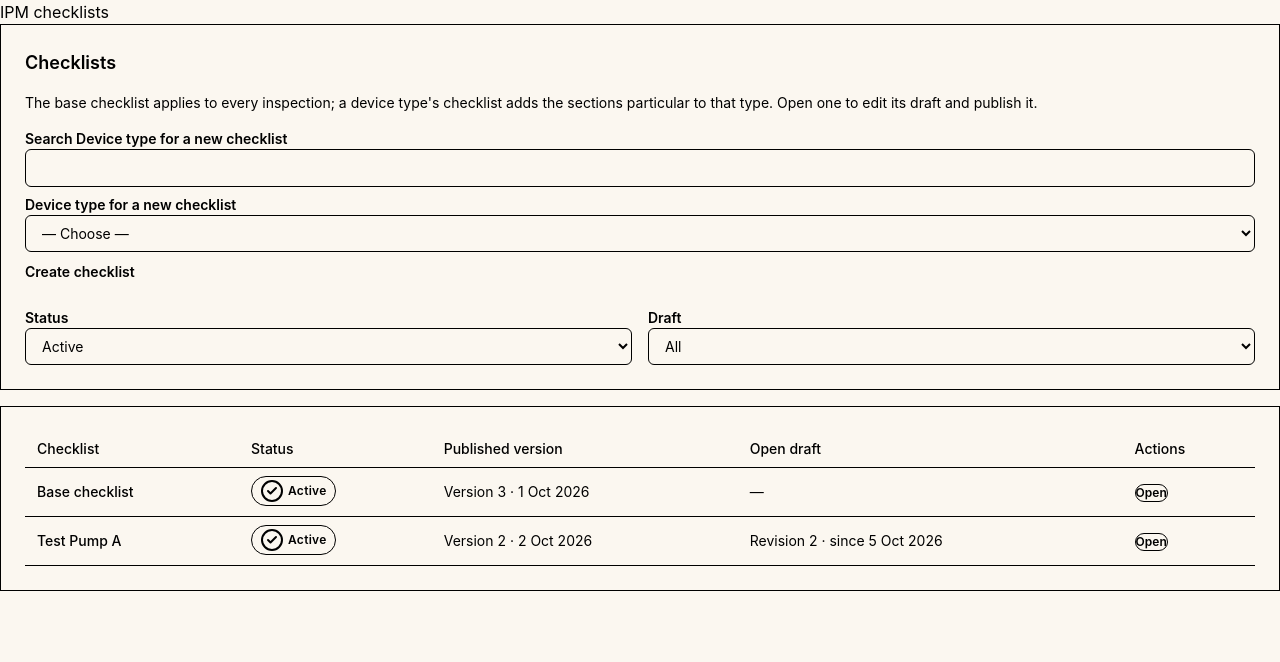
Test: P22-01 — the operator's checklists › a stale save is a 409 shown as written, with a reload that re-reads the draft
Click the button with aria-label "Open Test Pump A" at (1151, 542), box [1135, 533, 1168, 551]
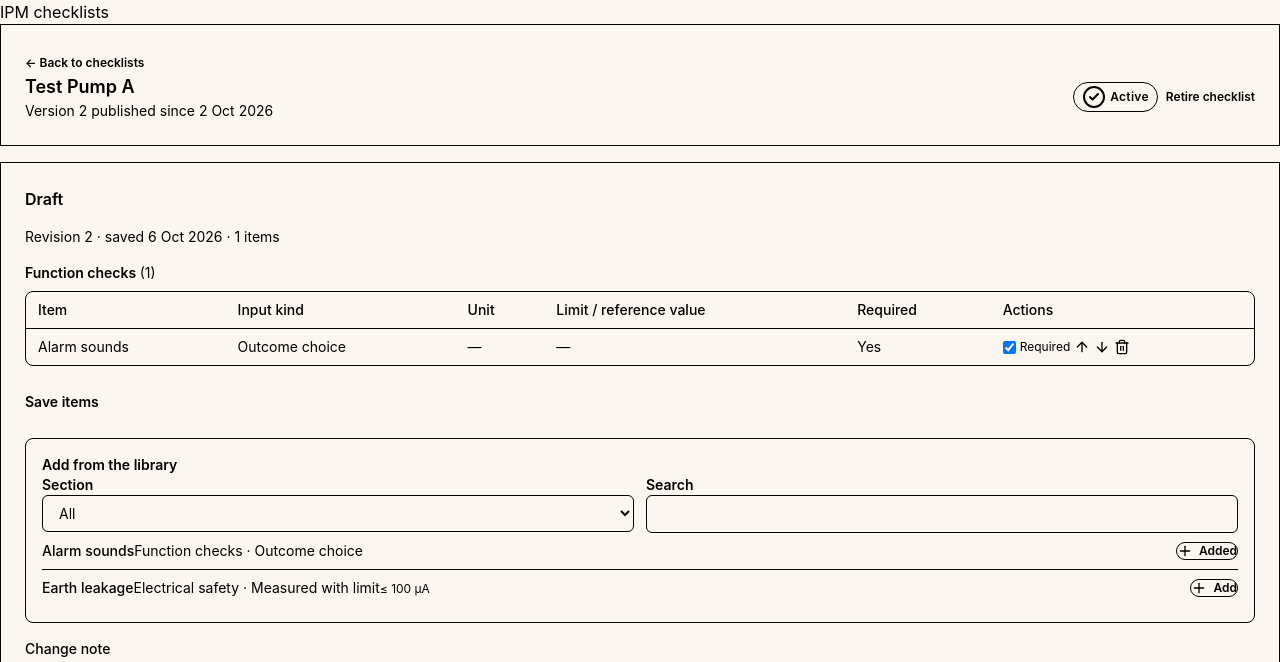
Click the button with aria-label "Add Earth leakage" at (1214, 588), box [1190, 579, 1238, 597]
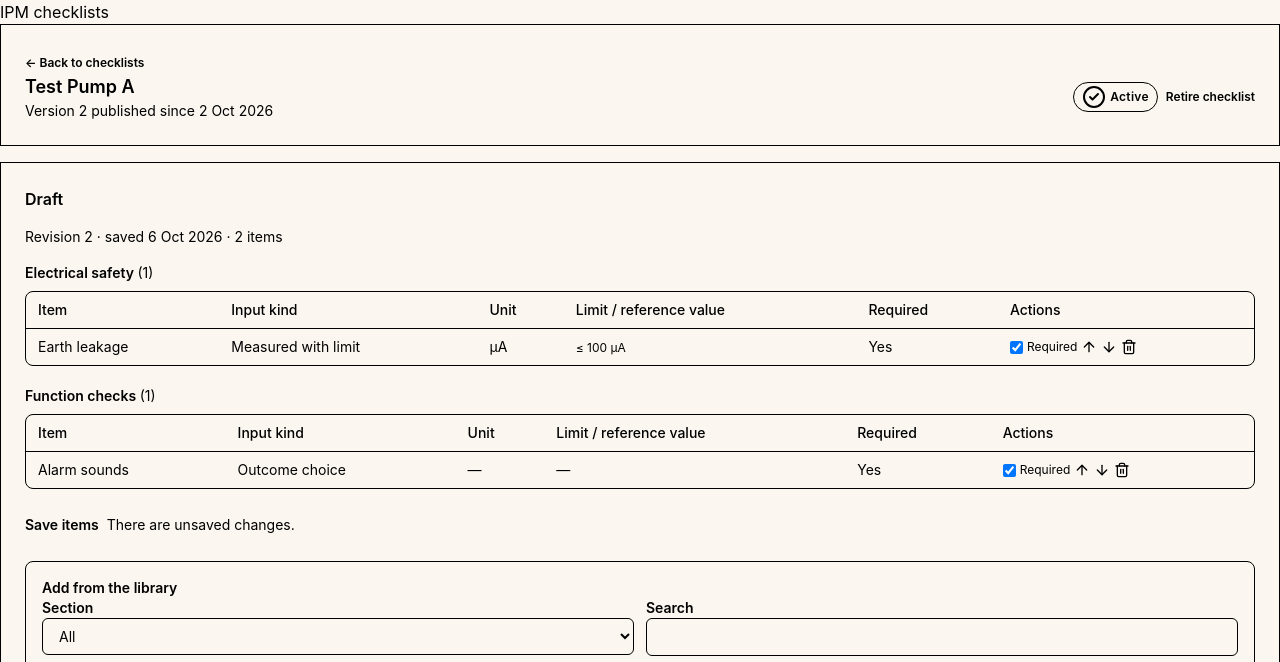
Click the button "Save items" at (62, 525), box [25, 505, 99, 545]
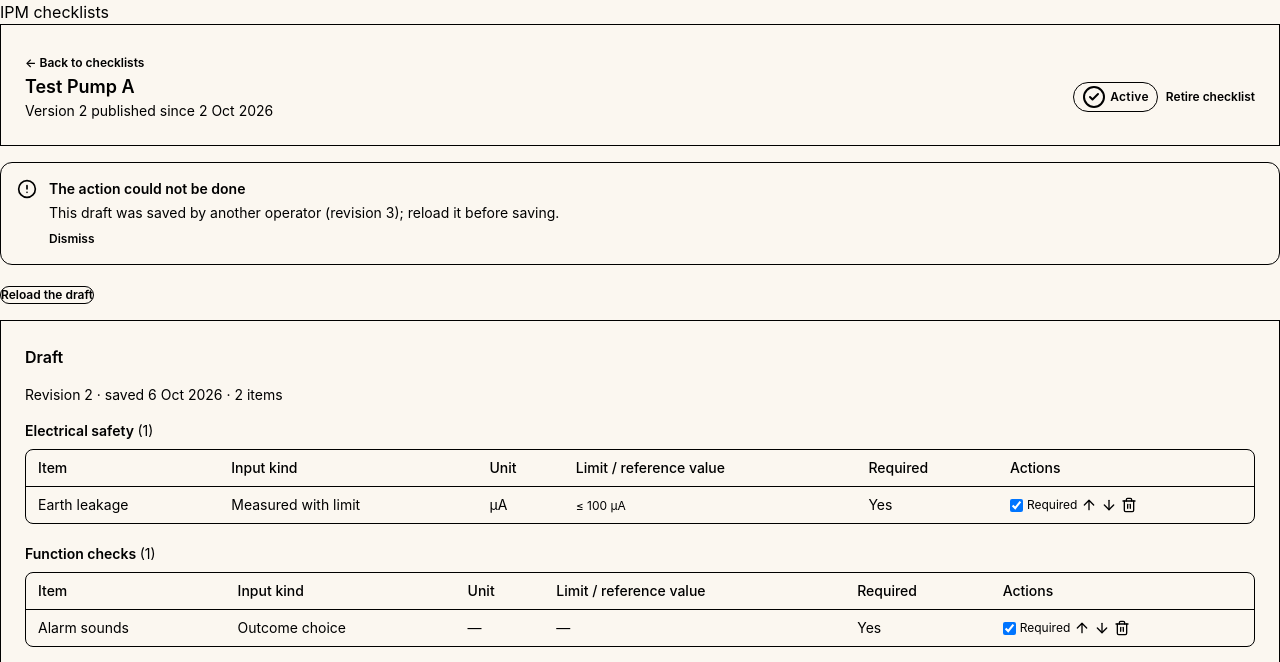
Result: the text "This draft was saved by another operator (revision 3); reload it before saving." is shown at [49, 204, 559, 221]
Click the button "Reload the draft" at (47, 295), box [0, 286, 94, 304]
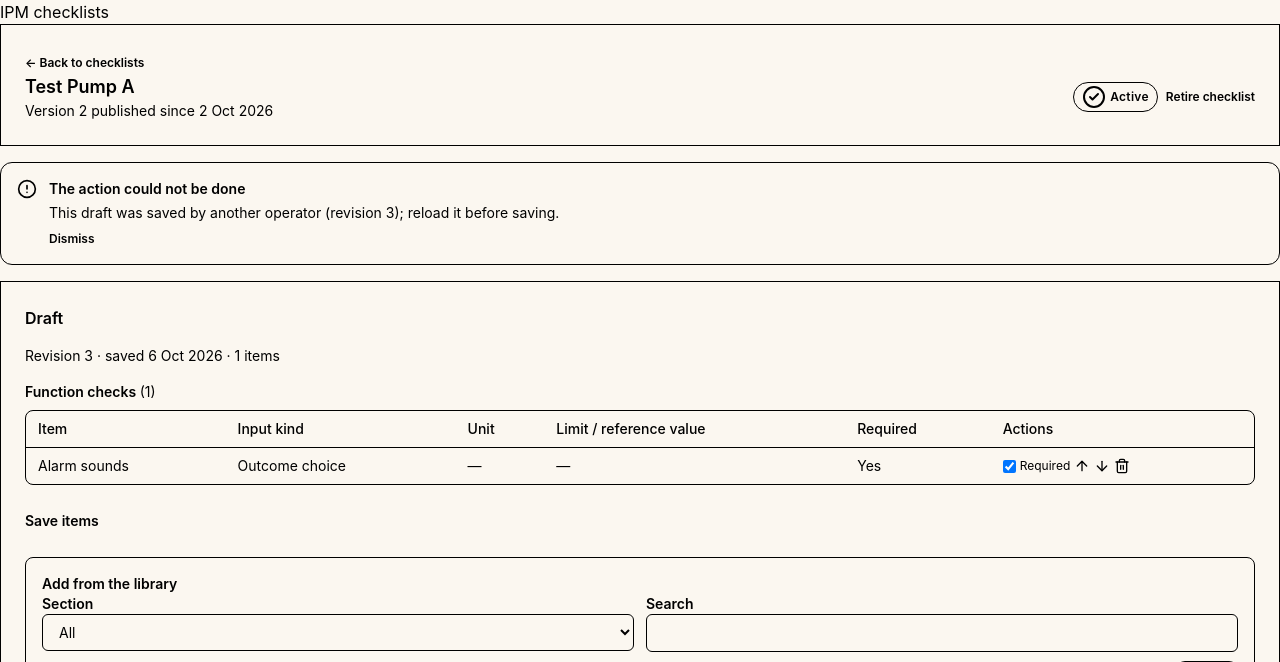
Result: the text "Revision 3 · saved 6 Oct 2026 · 1 items" is shown at [25, 347, 280, 364]
